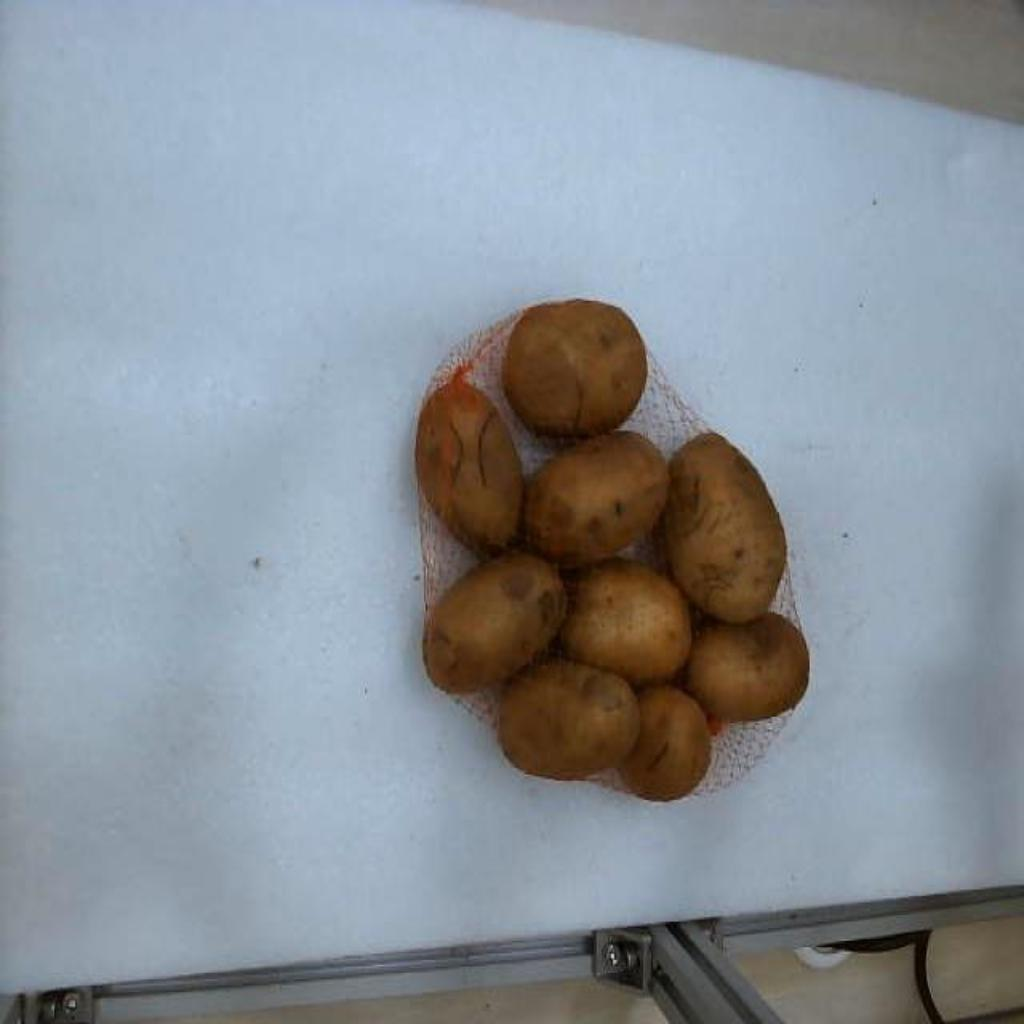potato: (662, 435, 786, 623), (422, 552, 566, 693), (502, 299, 646, 436), (524, 432, 670, 565), (418, 371, 522, 551), (498, 659, 638, 777), (560, 560, 692, 684), (688, 613, 810, 720), (620, 685, 712, 801)
